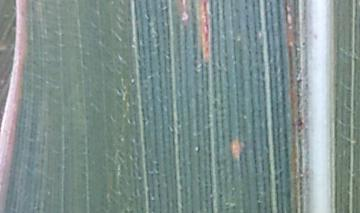tarspot: (295, 115, 305, 130)
